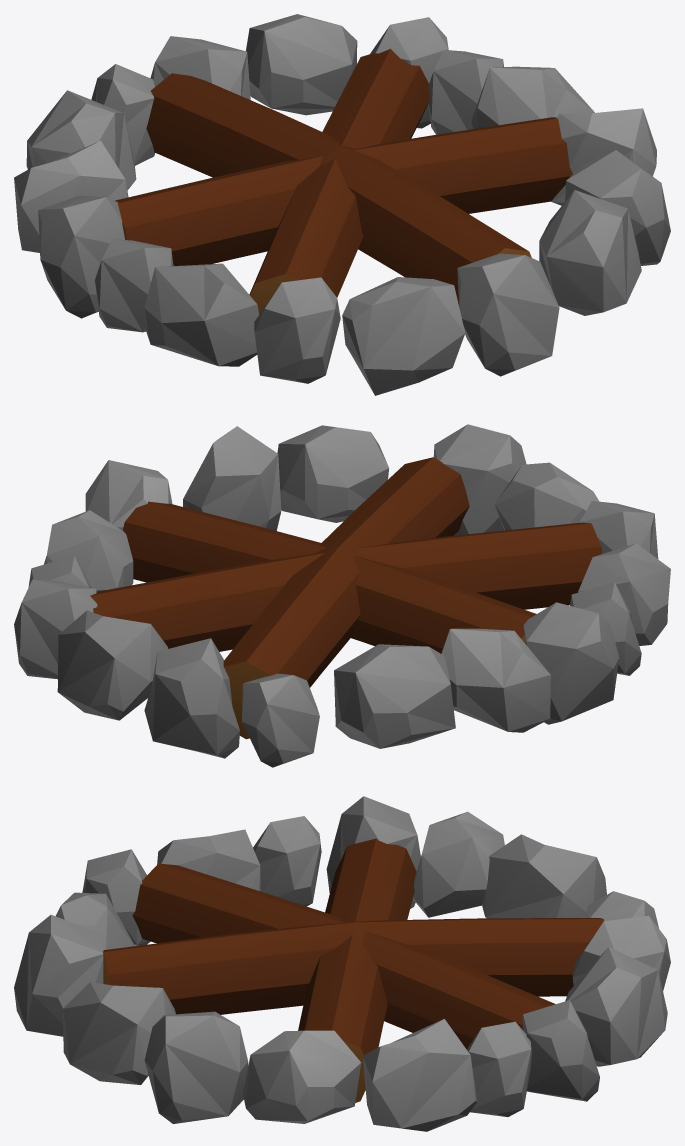
File: campfire.glb
3 renders of one model, top to bottom at view 1: azimuth 30°, elevation 25°; view 2: azimuth 150°, elevation 25°; view 3: azimuth 270°, elevation 25°, orthographic. The views are drawn at different scales.
Parts seen in each view (by area): view 1: log, log.002, log.001, Icosphere.062, Icosphere.066, Icosphere.059, Icosphere.063, Icosphere.065, Icosphere.069, Icosphere.067, Icosphere.064, Icosphere.058 (+8 smaller); view 2: log.001, log.002, log, Icosphere.072, Icosphere.064, Icosphere.065, Icosphere.073, Icosphere.059, Icosphere.067, Icosphere.058, Icosphere.071, Icosphere.066 (+8 smaller); view 3: log.002, log.001, log, Icosphere.060, Icosphere.058, Icosphere.061, Icosphere.059, Icosphere.065, Icosphere.072, Icosphere.066, Icosphere.064, Icosphere.074 (+8 smaller).
Boxes of the visible parts, left/top/right/bottom form: log: left=115, top=117, right=572, bottom=265; log.002: left=146, top=73, right=531, bottom=304; log.001: left=249, top=48, right=430, bottom=314; Icosphere.062: left=342, top=277, right=465, bottom=395; Icosphere.066: left=457, top=253, right=559, bottom=376; Icosphere.059: left=539, top=190, right=641, bottom=315; Icosphere.063: left=143, top=263, right=259, bottom=366; Icosphere.065: left=246, top=14, right=357, bottom=115; Icosphere.069: left=254, top=277, right=340, bottom=383; Icosphere.067: left=38, top=195, right=124, bottom=318; Icosphere.064: left=14, top=140, right=128, bottom=252; Icosphere.058: left=565, top=150, right=670, bottom=265; log.001: left=90, top=522, right=602, bottom=651; log.002: left=223, top=457, right=469, bottom=739; log: left=122, top=501, right=536, bottom=653; Icosphere.072: left=334, top=644, right=455, bottom=748; Icosphere.064: left=441, top=628, right=550, bottom=732; Icosphere.065: left=57, top=610, right=167, bottom=720; Icosphere.073: left=144, top=638, right=239, bottom=758; Icosphere.059: left=277, top=425, right=389, bottom=522; Icosphere.067: left=523, top=602, right=619, bottom=724; Icosphere.058: left=183, top=426, right=281, bottom=530; Icosphere.071: left=242, top=673, right=319, bottom=767; Icosphere.066: left=433, top=424, right=526, bottom=535; log.002: left=102, top=917, right=603, bottom=1014; log.001: left=132, top=863, right=555, bottom=1049; log: left=298, top=838, right=416, bottom=1102; Icosphere.060: left=363, top=1019, right=477, bottom=1131; Icosphere.058: left=144, top=1011, right=248, bottom=1123; Icosphere.061: left=243, top=1030, right=361, bottom=1123; Icosphere.059: left=63, top=982, right=175, bottom=1084; Icosphere.065: left=565, top=947, right=667, bottom=1066; Icosphere.072: left=482, top=834, right=606, bottom=918; Icosphere.066: left=14, top=914, right=103, bottom=1036; Icosphere.064: left=412, top=811, right=504, bottom=917; Icosphere.074: left=522, top=1000, right=599, bottom=1101.
Size of what is drawn, in the model's own units: 3.9 by 0.8151 by 4.03.
3 materials, 3 textured.
